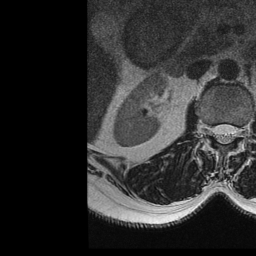CCS_normal: (221, 115, 227, 150)
LFS_normal: (236, 120, 244, 145)
LLS_normal: (227, 118, 236, 146)
RFS_normal: (205, 117, 213, 143)
RLS_normal: (213, 118, 221, 144)
